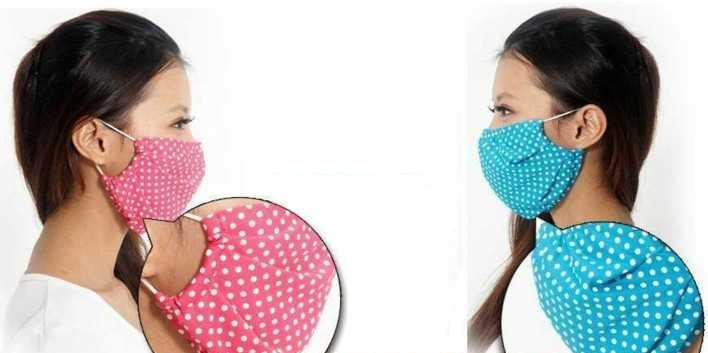OK: (86, 92, 210, 234), (477, 88, 585, 219)
